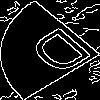D: (25, 25, 100, 84)
